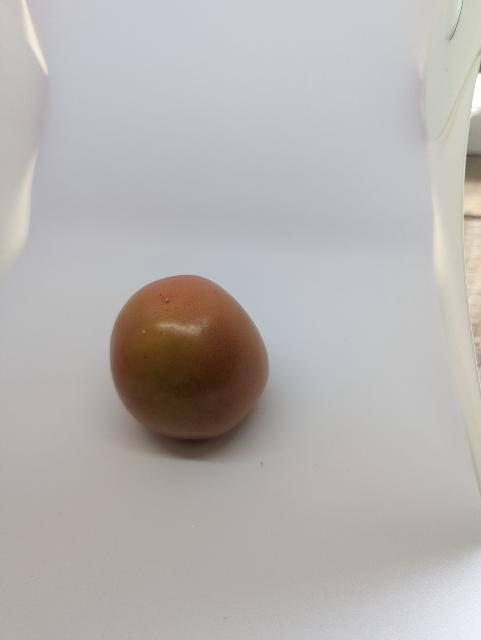turning: (98, 268, 284, 450)
